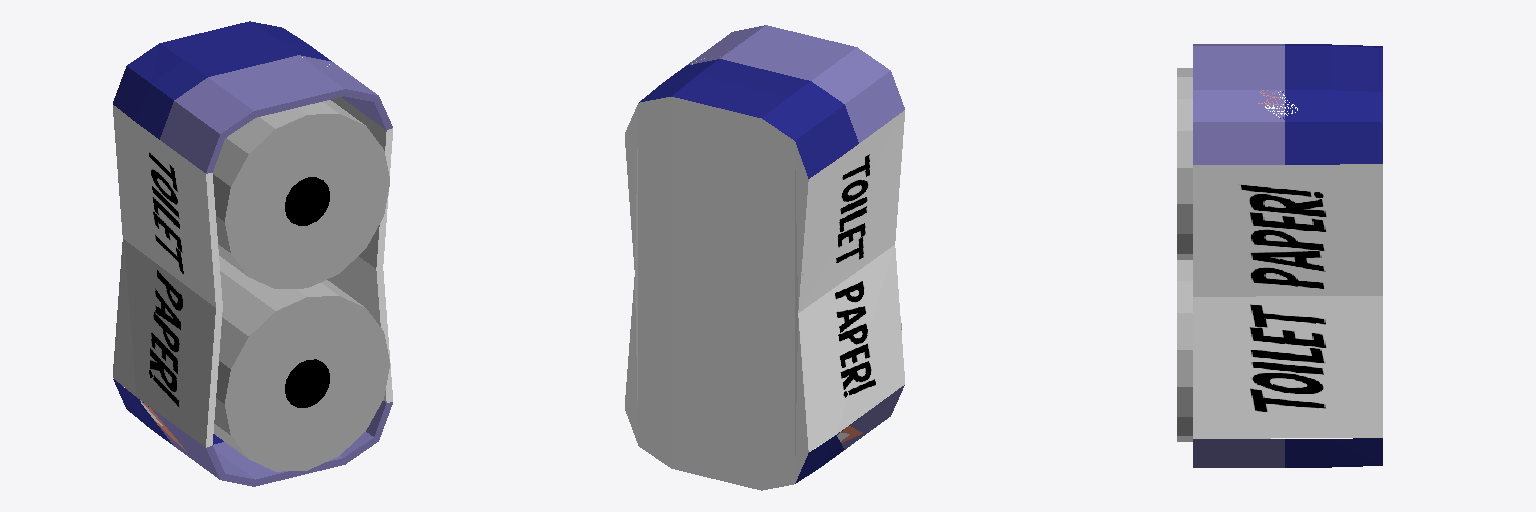
3 renders of one model, left to right at view 1: azimuth 30°, elevation 25°; view 2: azimuth 150°, elevation 25°; view 3: azimuth 270°, elevation 25°, orthographic.
Parts seen in each view (by area): view 1: Toilet paper.003; view 2: Toilet paper.003; view 3: Toilet paper.003.
Part boxes in pixels (x1,y1,x2,y2): Toilet paper.003: (113,21,392,486); Toilet paper.003: (625,25,904,490); Toilet paper.003: (1177,44,1382,467).
Bounding box in the file's own units: 0.2714 × 0.5196 × 0.2582.
Materials: 1 (1 with a texture image).